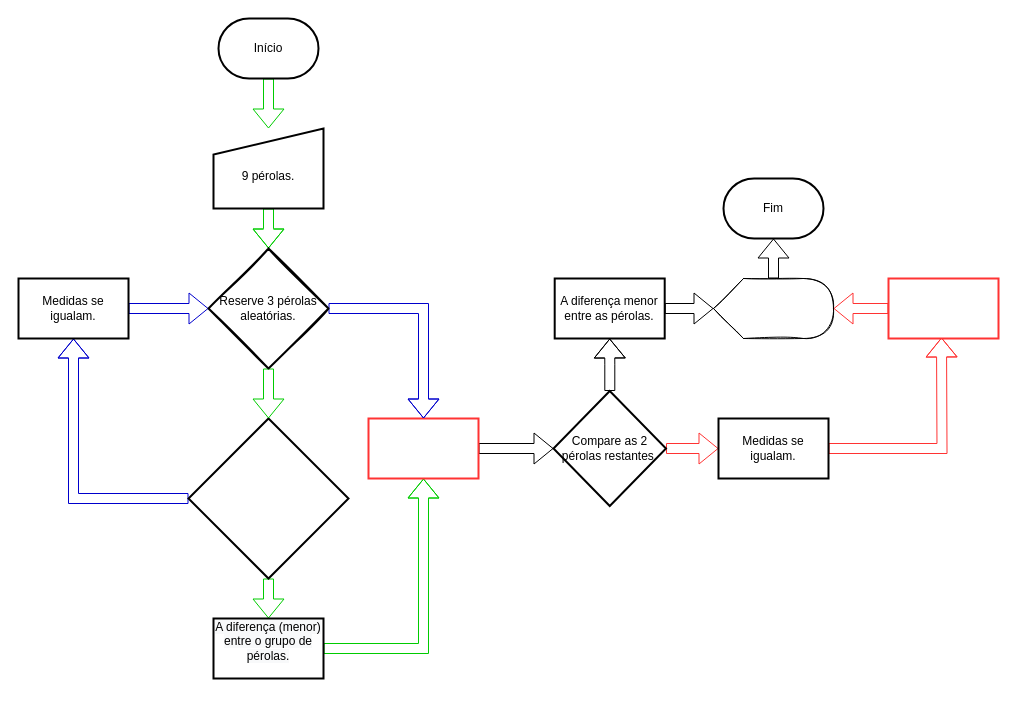
Some shapes in this 1016 by 708 pixel diagram are drawn without their labels. The shapes that lost their labels are listed below. From the top down, each one's centre as x and y in pixels, then its label:
At (x=773, y=308): "Pérola mais leve.".
At (x=943, y=308): "Pérola reservada".
At (x=423, y=448): "Reserve uma pérola.".
At (x=268, y=498): "Compare as 6 pérolas restantes na balança(3 pra cada lado).".
